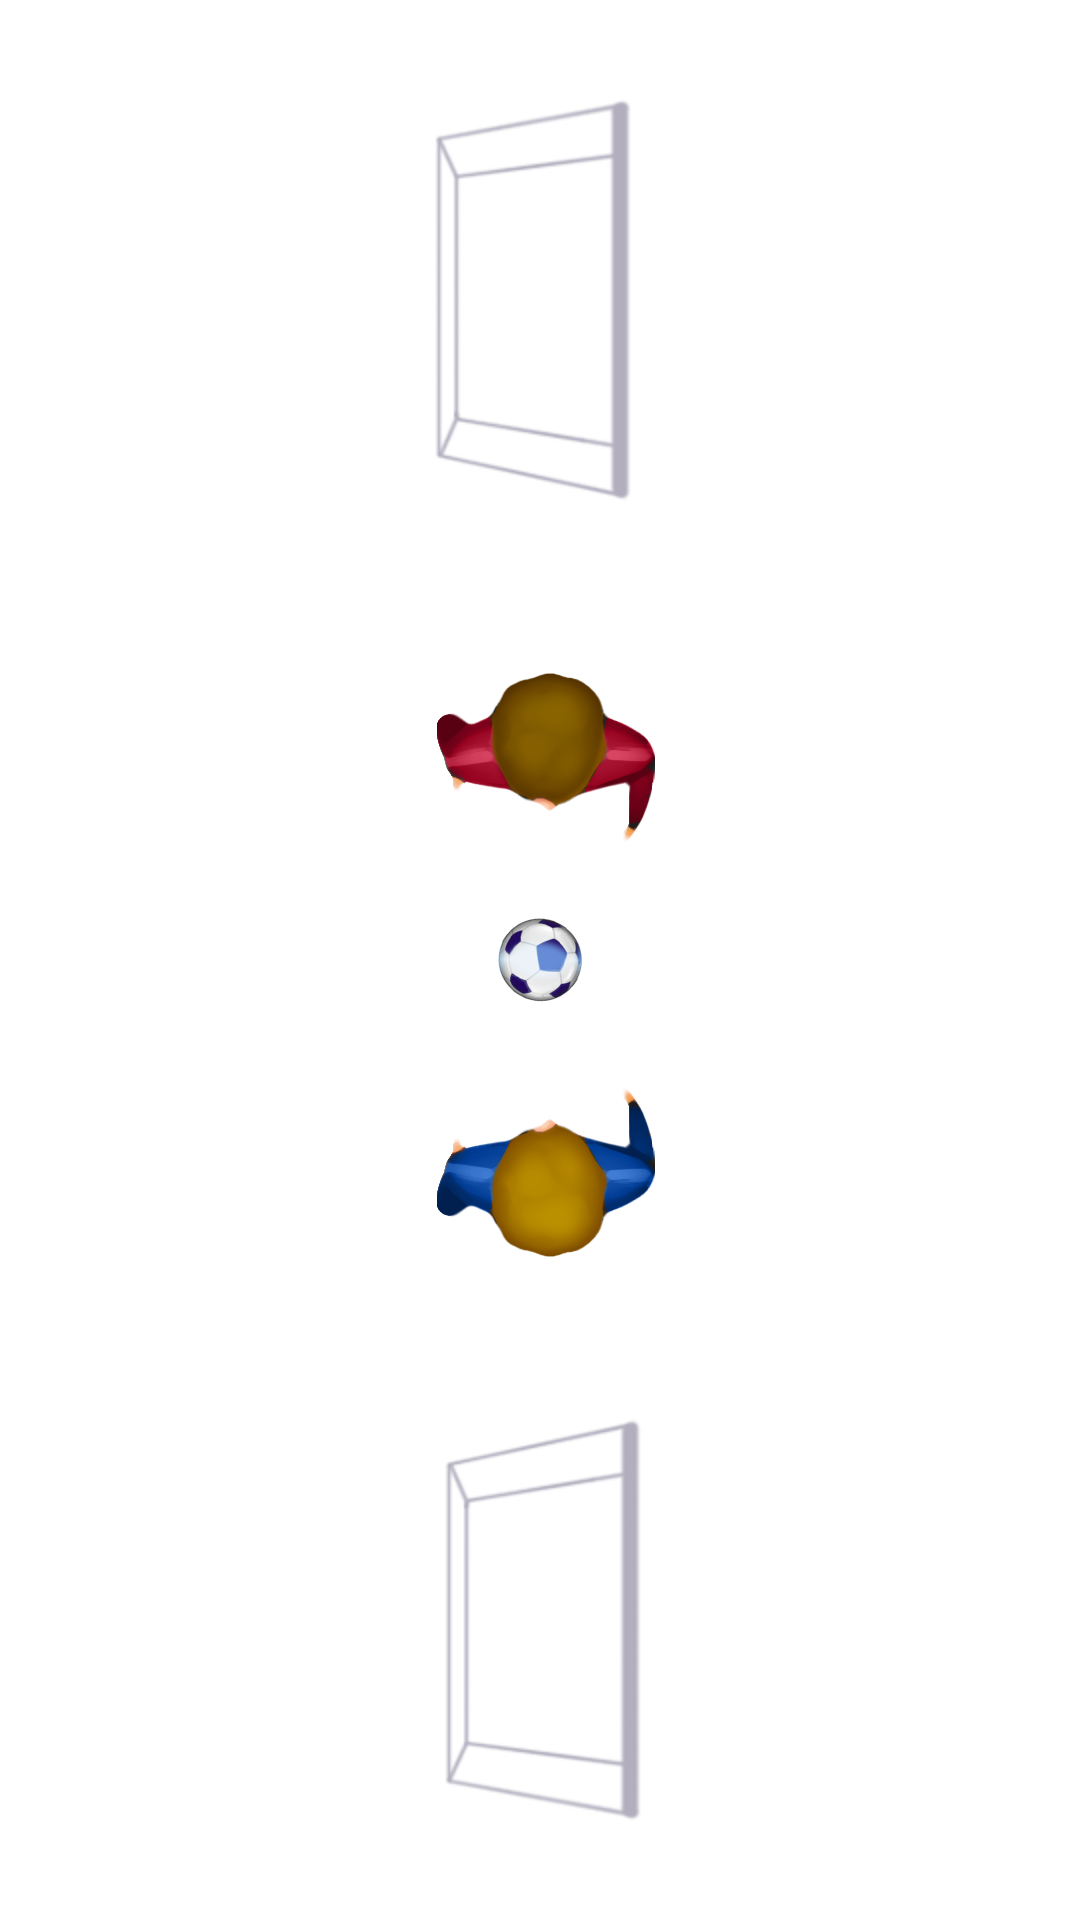

Point at icon controls on the screen. Image size 1080px x 1920px, points as point (x, y).
myach: point (540, 959)
